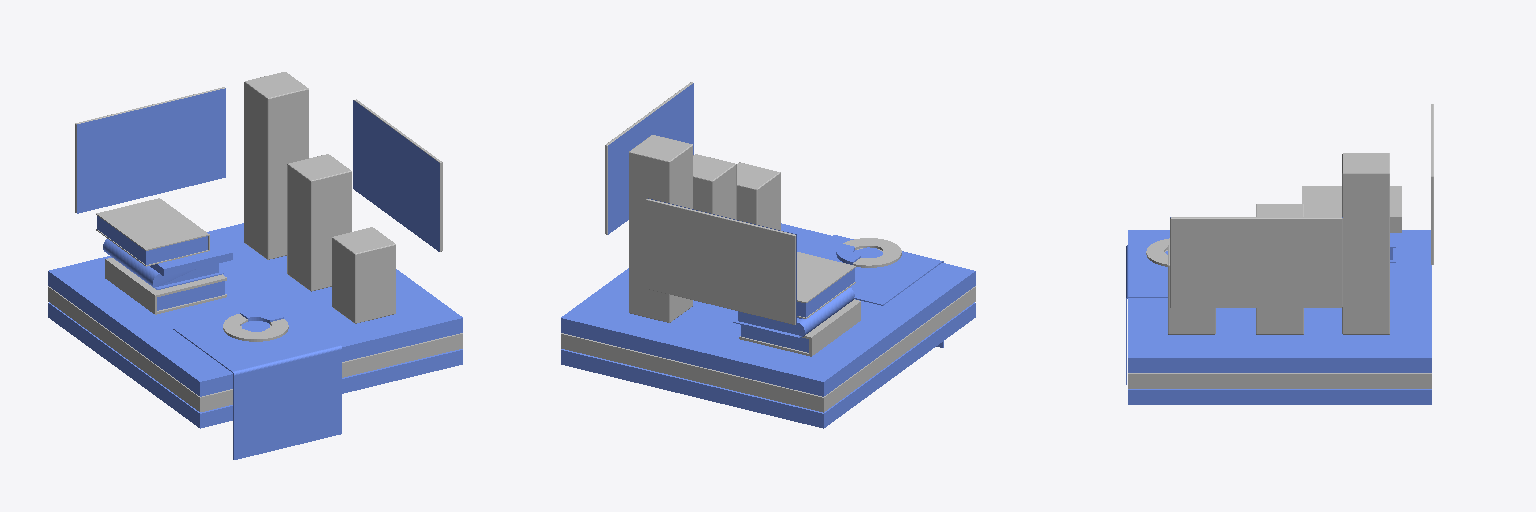
Rendered from view.obj.
3 renders of one model, left to right at view 1: azimuth 30°, elevation 25°; view 2: azimuth 150°, elevation 25°; view 3: azimuth 270°, elevation 25°, orthographic.
Parts seen in each view (by area): view 1: 立方体.040, 立方体, 立方体.003, 立方体.001, 立方体.047, 立方体.007, 立方体.045, 立方体.046, 立方体.005, 立方体.004, 柱体.001; view 2: 立方体.040, 立方体.002, 立方体.047, 立方体.001, 立方体.005, 立方体.004, 立方体.007, 立方体, 立方体.046, 立方体.045, 柱体.001; view 3: 立方体.040, 立方体.006, 立方体.047, 立方体.004, 立方体.005, 立方体.001, 立方体, 立方体.045, 立方体.046.
Boxes of the visible parts, <box> form: 立方体.040: <box>48,223,462,396</box>; 立方体: <box>173,302,341,459</box>; 立方体.003: <box>77,88,225,213</box>; 立方体.001: <box>96,198,232,314</box>; 立方体.047: <box>244,72,308,259</box>; 立方体.007: <box>353,100,439,251</box>; 立方体.045: <box>287,154,351,291</box>; 立方体.046: <box>332,227,395,323</box>; 立方体.005: <box>48,302,462,428</box>; 立方体.004: <box>48,286,462,411</box>; 柱体.001: <box>223,314,288,341</box>; 立方体.040: <box>561,223,975,396</box>; 立方体.002: <box>646,199,795,324</box>; 立方体.047: <box>629,135,692,322</box>; 立方体.001: <box>733,252,860,356</box>; 立方体.005: <box>561,302,975,428</box>; 立方体.004: <box>561,286,975,412</box>; 立方体.007: <box>608,83,693,234</box>; 立方体: <box>809,235,943,347</box>; 立方体.046: <box>737,162,780,230</box>; 立方体.045: <box>693,154,736,219</box>; 柱体.001: <box>843,238,901,267</box>; 立方体.040: <box>1128,230,1431,372</box>; 立方体.006: <box>1170,217,1342,307</box>; 立方体.047: <box>1342,153,1389,334</box>; 立方体.004: <box>1128,373,1431,388</box>; 立方体.005: <box>1128,389,1431,404</box>; 立方体.001: <box>1302,186,1401,262</box>; 立方体: <box>1126,244,1167,384</box>; 立方体.045: <box>1256,204,1303,334</box>; 立方体.046: <box>1168,245,1215,334</box>.
Size of the model in its own units: 3.54 by 3.18 by 3.58.